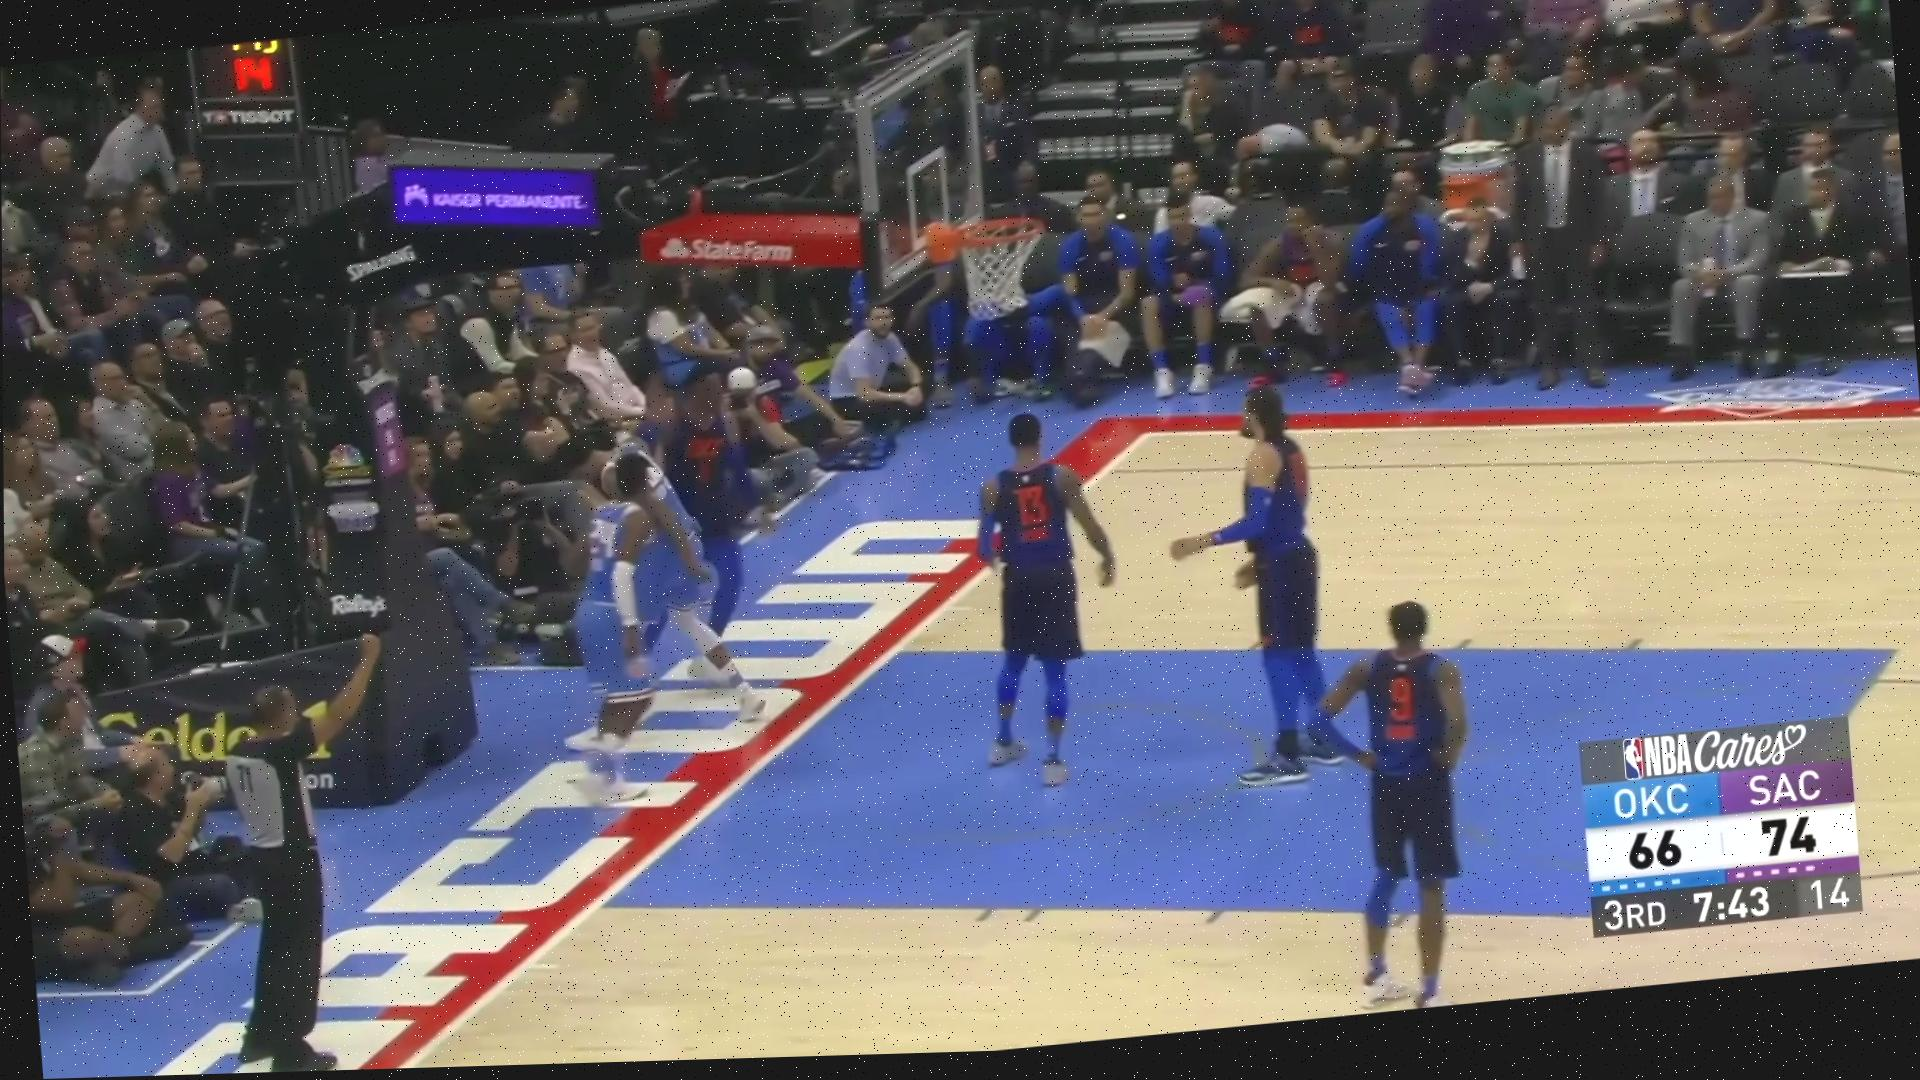foul: (553, 396, 790, 785)
